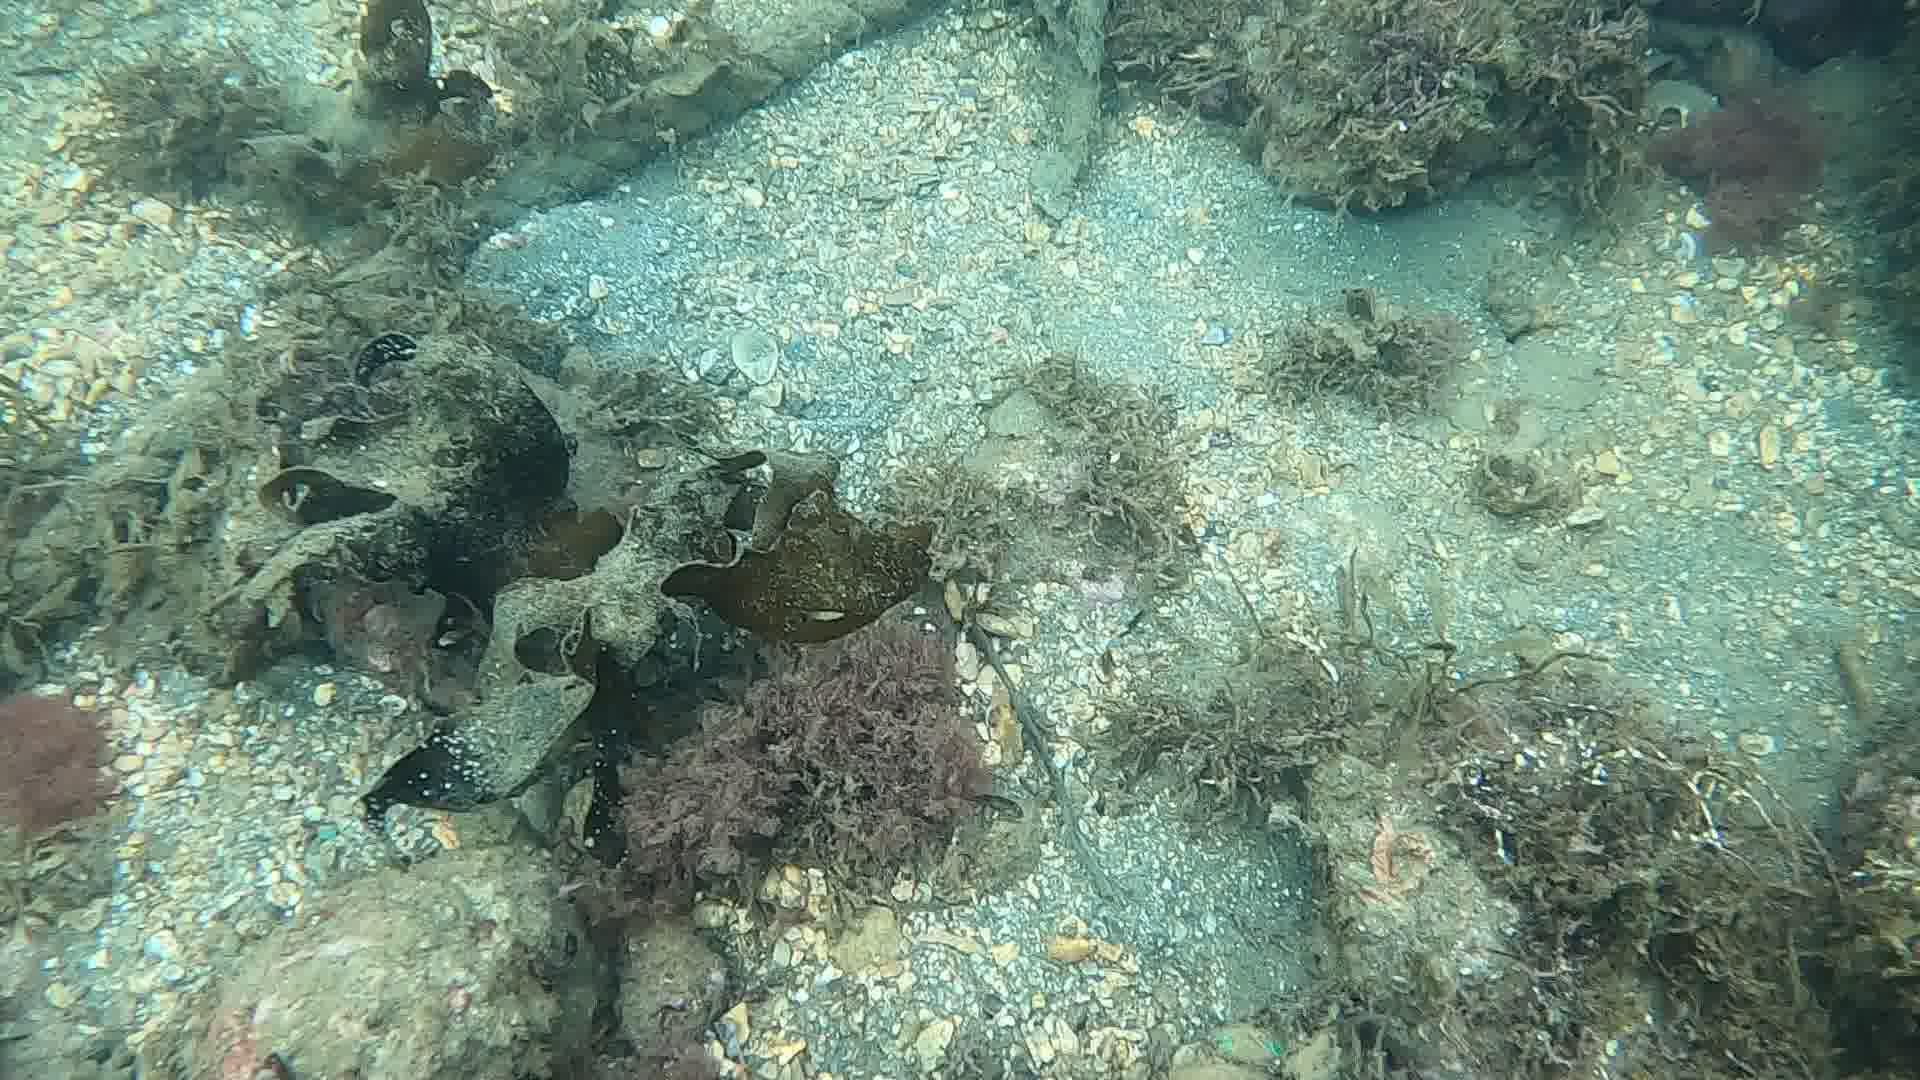rope: (0, 0, 936, 615)
